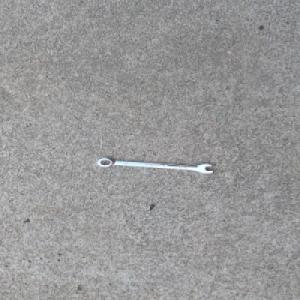Wrench: (95, 156, 215, 174)
